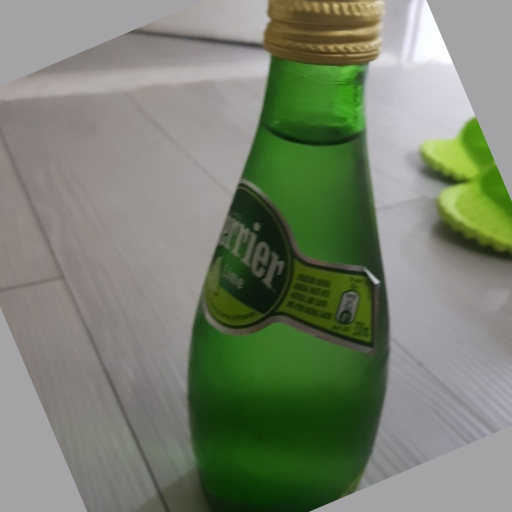Glass_4: (184, 1, 398, 512)
